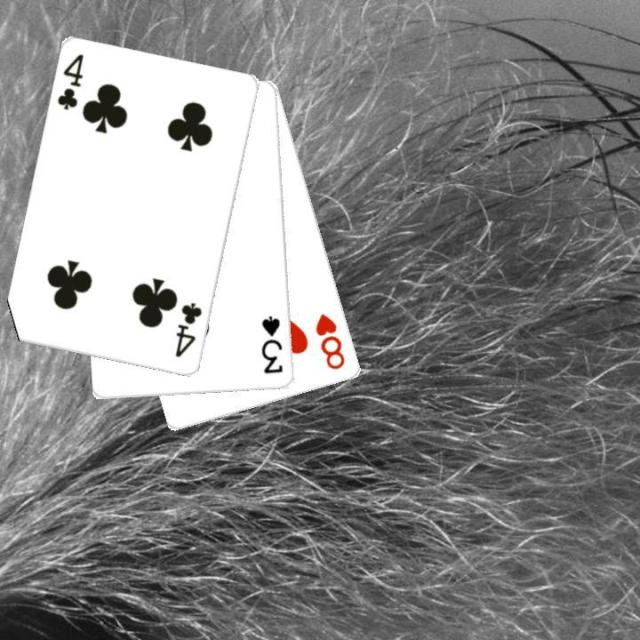3S: (258, 312, 285, 376)
4C: (54, 51, 86, 113), (172, 299, 204, 360)
8H: (312, 309, 348, 372)
